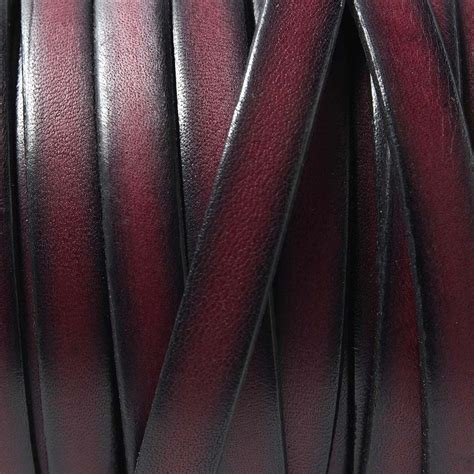cuero: (3, 3, 474, 474)
